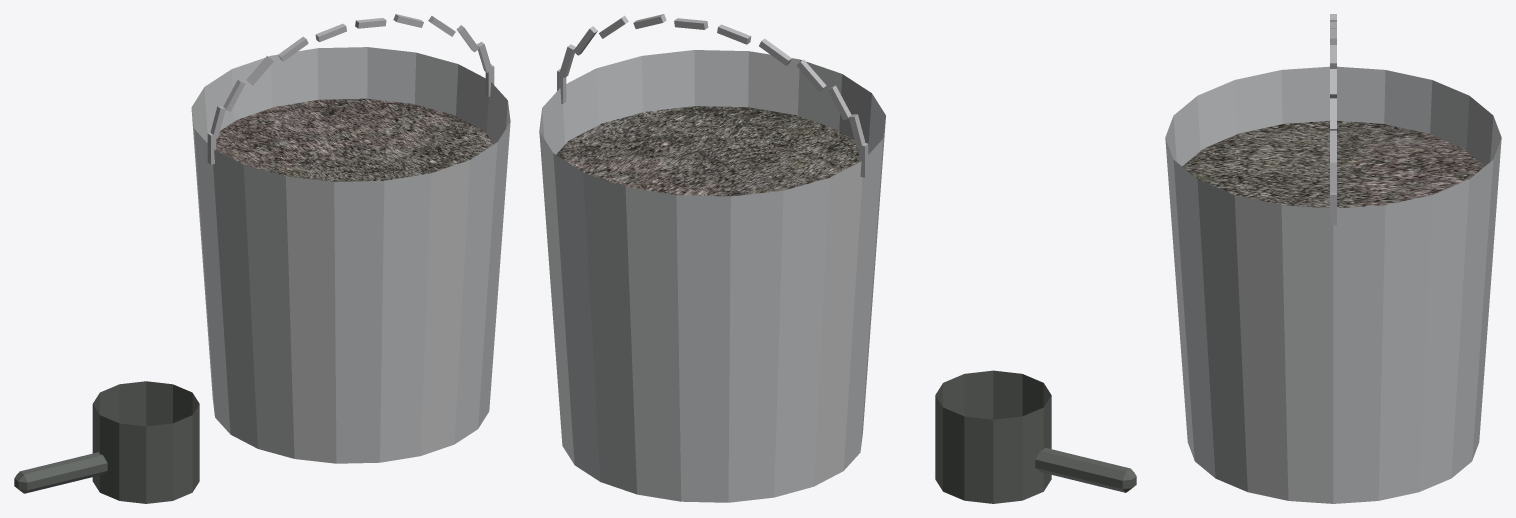
Rendered from sheep_feed_bucket_a.glb.
The picture shows the model from 3 angles, left to right: view 1: azimuth 30°, elevation 25°; view 2: azimuth 150°, elevation 25°; view 3: azimuth 270°, elevation 25°; orthographic projection. The views are drawn at different scales.
Parts seen in each view (by area): view 1: sheep_feed_bucket_a_LOD0; view 2: sheep_feed_bucket_a_LOD0; view 3: sheep_feed_bucket_a_LOD0.
Boxes of the visible parts, x1,y1,x2,y2 form: sheep_feed_bucket_a_LOD0: (14,14,510,503); sheep_feed_bucket_a_LOD0: (539,14,1136,503); sheep_feed_bucket_a_LOD0: (1165,14,1501,503).
Bounding box in the file's own units: 0.543 × 0.3942 × 0.3.
Materials: 4 (1 with a texture image).
